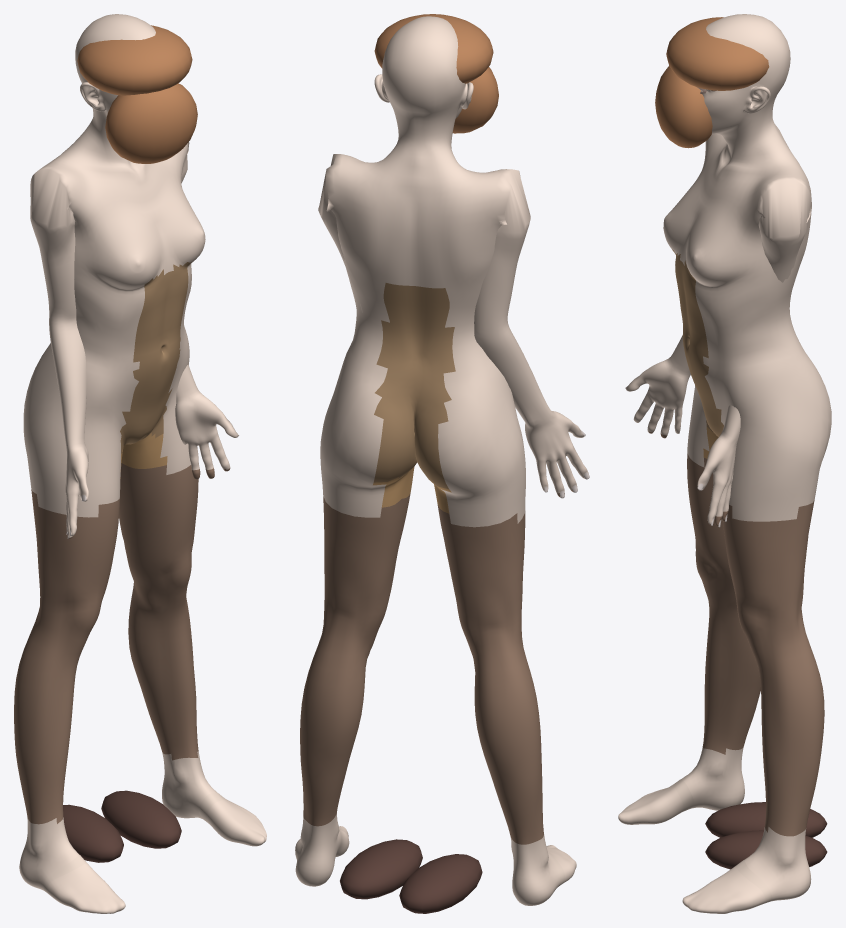
The model's file is hm_ped_ivy_v15.glb.
The picture shows the model from 3 angles, left to right: view 1: azimuth 30°, elevation 25°; view 2: azimuth 150°, elevation 25°; view 3: azimuth 270°, elevation 25°; orthographic projection. The views are drawn at different scales.
Parts seen in each view (by area): view 1: hm_ped_ivy; view 2: hm_ped_ivy; view 3: hm_ped_ivy.
Boxes of the visible parts, box(x1,y1,x2,y2) form: hm_ped_ivy: box(14, 14, 266, 913); hm_ped_ivy: box(295, 14, 589, 913); hm_ped_ivy: box(618, 14, 831, 913).
Size of the model in its own units: 0.4918 by 1.66 by 0.384.
